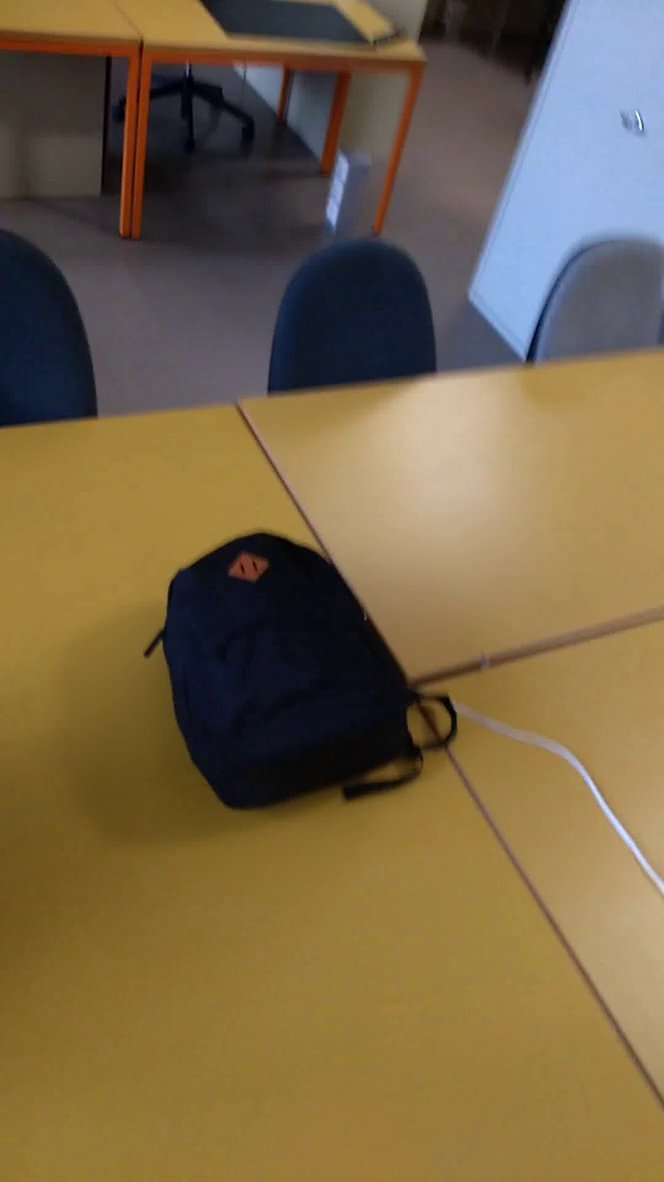bag: (140, 525, 474, 836)
chair: (263, 225, 448, 407), (515, 228, 664, 381)
